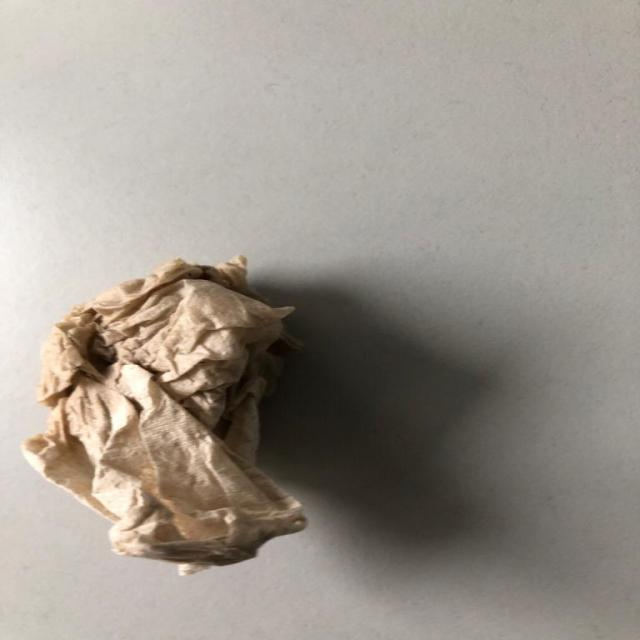kitchen paper: (27, 252, 313, 578)
